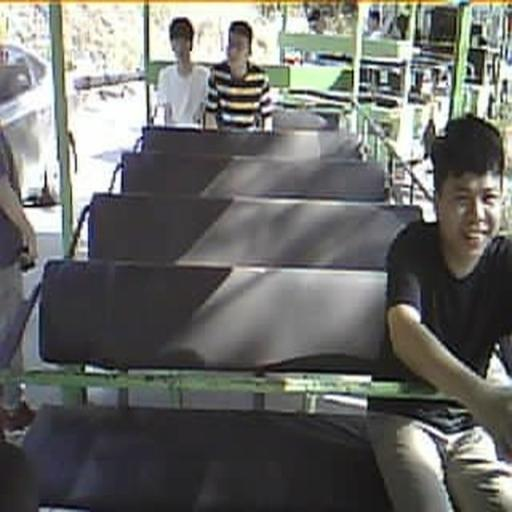persona: (366, 113, 512, 511), (203, 20, 275, 134), (154, 16, 210, 128)
